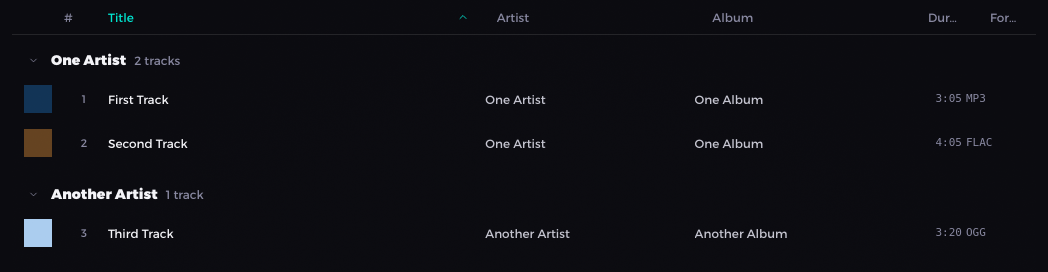
Test: TrackTable › applies an alt group disclosure change to every group
The width and height of the screenshot is (1048, 272).
Click the button named "Collapse " at (34, 60), box top-left (28, 50), bottom-right (39, 70)
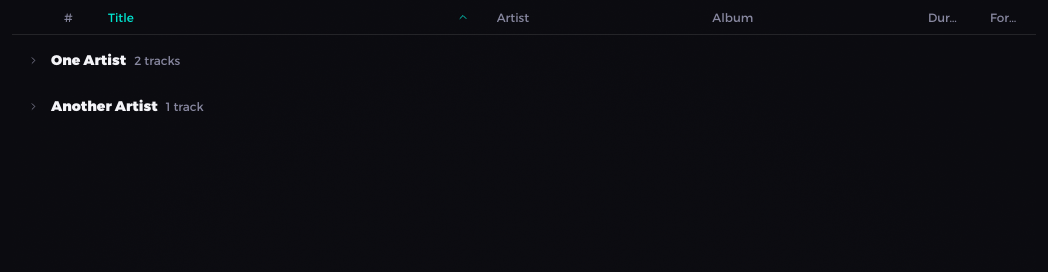
expect the button "First Track" is gone: met
expect the button "Third Track" is gone: met
Click the button named "Expand " at (34, 60), box top-left (24, 54), bottom-right (43, 66)
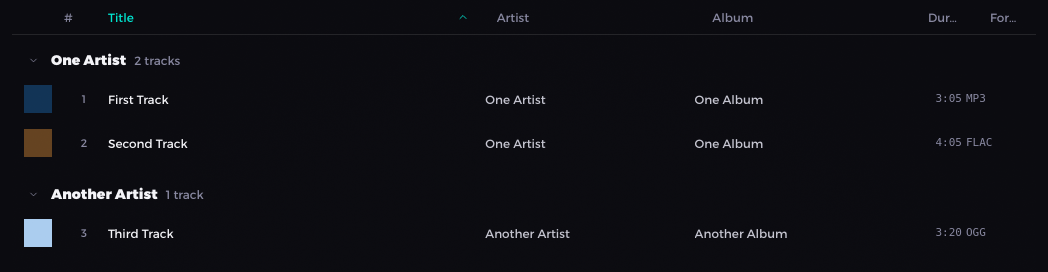
expect the button "1 First Track One Artist One Album 3:05 MP3" is shown: met, box top-left (12, 77), bottom-right (1036, 121)
expect the button "3 Third Track Another Artist Another Album 3:20 OGG" is shown: met, box top-left (12, 211), bottom-right (1036, 255)
